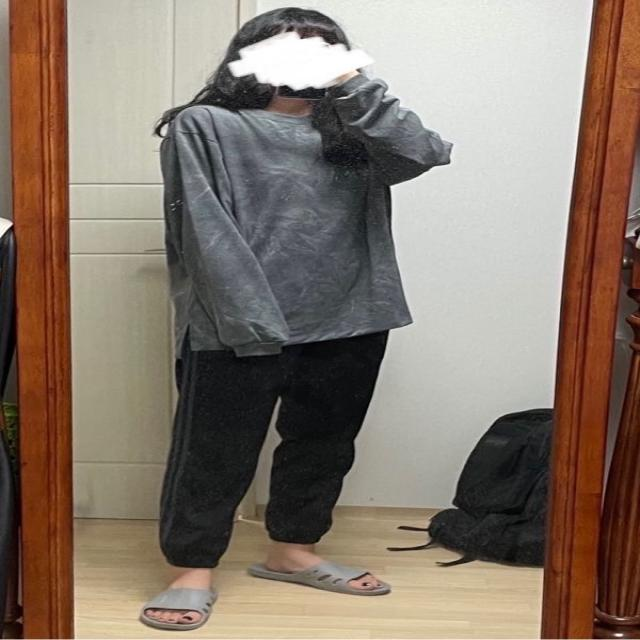longsleeve: (159, 76, 454, 359)
trainingpants: (156, 325, 389, 565)
